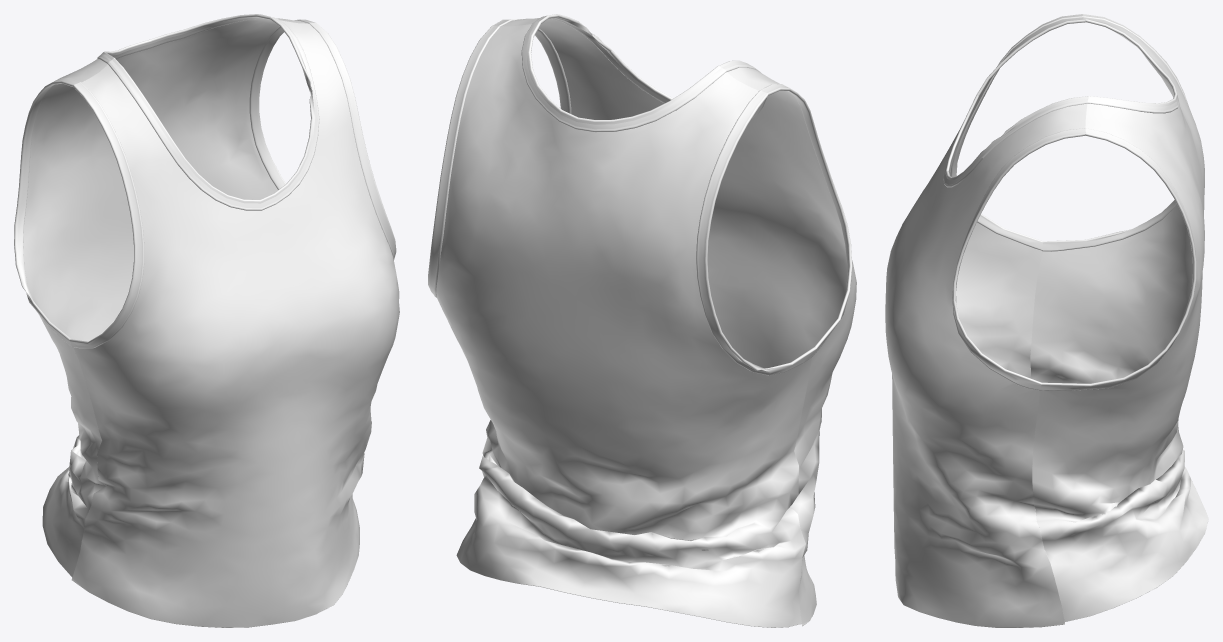
Rendered from maykaFemale.glb.
3 views of the same model, side by side, from view 1: azimuth 30°, elevation 25°; view 2: azimuth 150°, elevation 25°; view 3: azimuth 270°, elevation 25° (orthographic). The views are drawn at different scales.
Parts seen in each view (by area): view 1: myk; view 2: myk; view 3: myk.
Part boxes in pixels (x1,y1,x2,y2): myk: (14,14,399,627); myk: (428,14,856,627); myk: (885,14,1208,627).
Size of the model in its own units: 2.96 by 4.94 by 2.75.
1 material, 1 textured.
